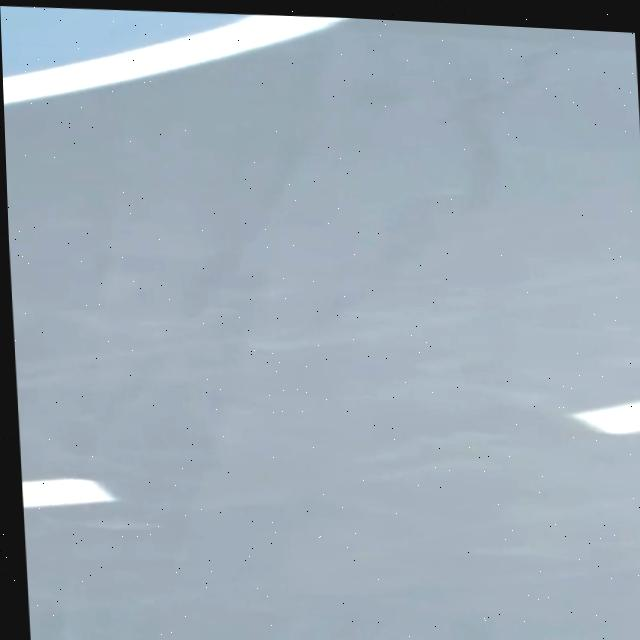center: (21, 478, 116, 506), (570, 400, 640, 433)
left: (3, 14, 347, 102)
